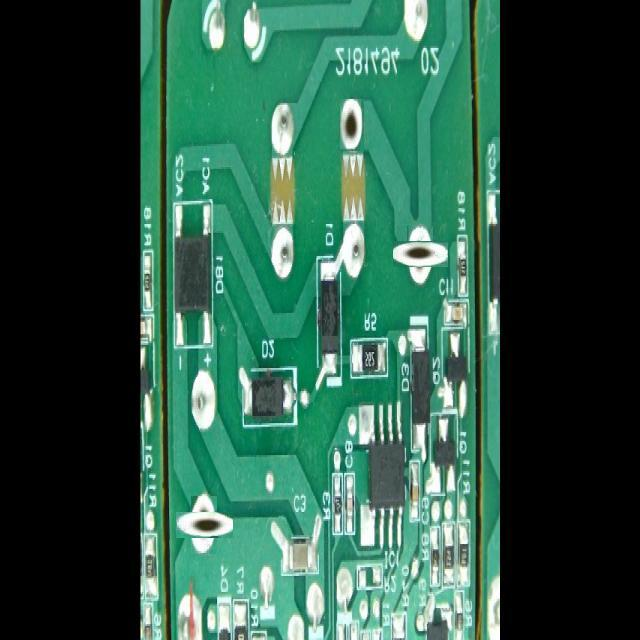damged: (183, 504, 225, 546), (400, 233, 440, 275), (340, 99, 364, 151)
